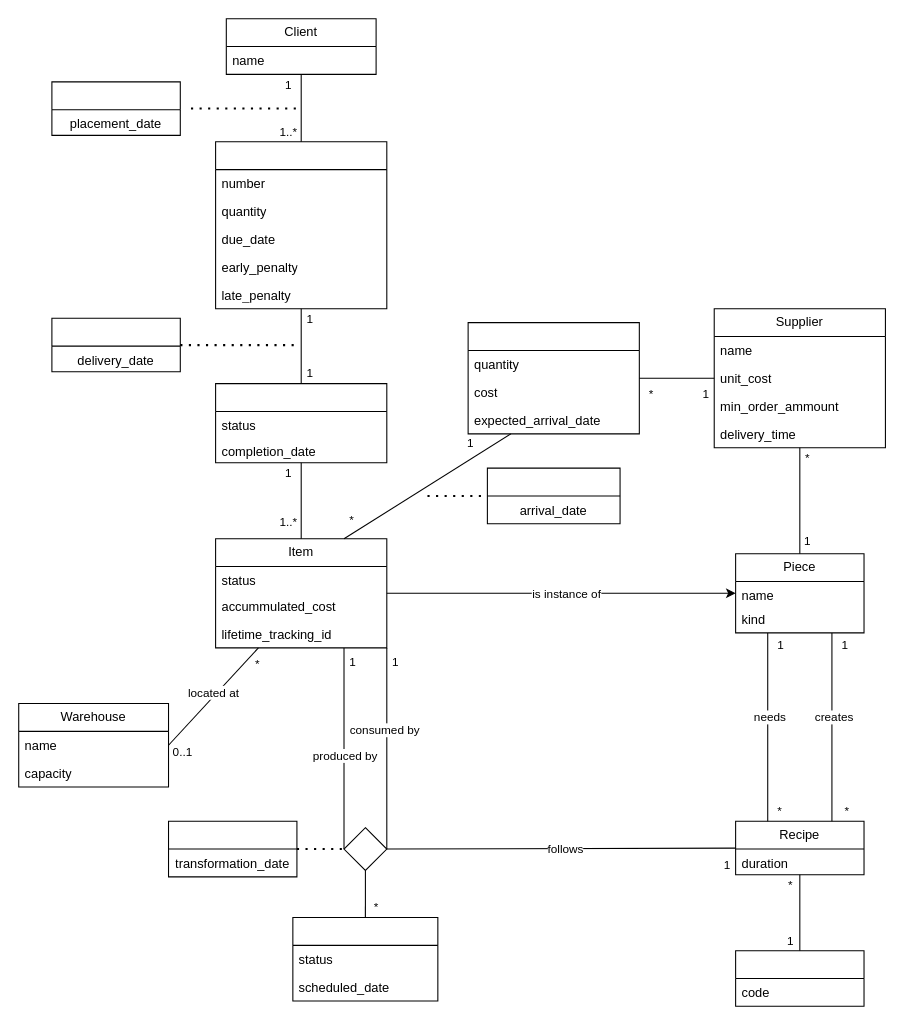
This 904x1028 diagram has some shape labels left out. The shapes that lost their labels are listed below. From the top down, each one's box as (x1, y1, x2, y2) in pixels, then its label:
(215, 141, 387, 309): order
(467, 322, 639, 434): shippment
(215, 383, 387, 463): Delivery
(292, 916, 438, 1001): ItemTransformation
(735, 950, 864, 1006): Tool
